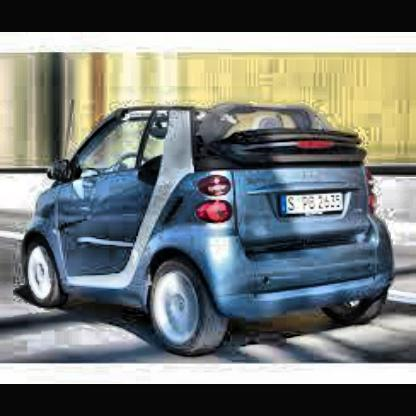smart fortwo Convertible 2012: (23, 97, 403, 359)
